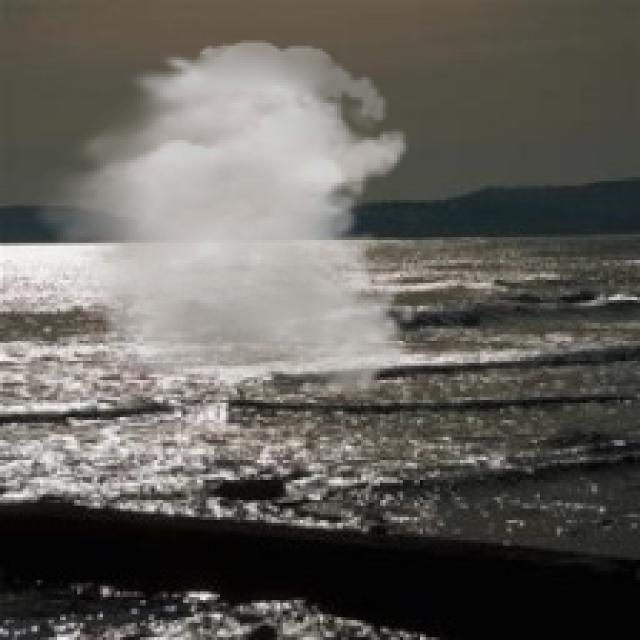smoke: (26, 40, 423, 397)
